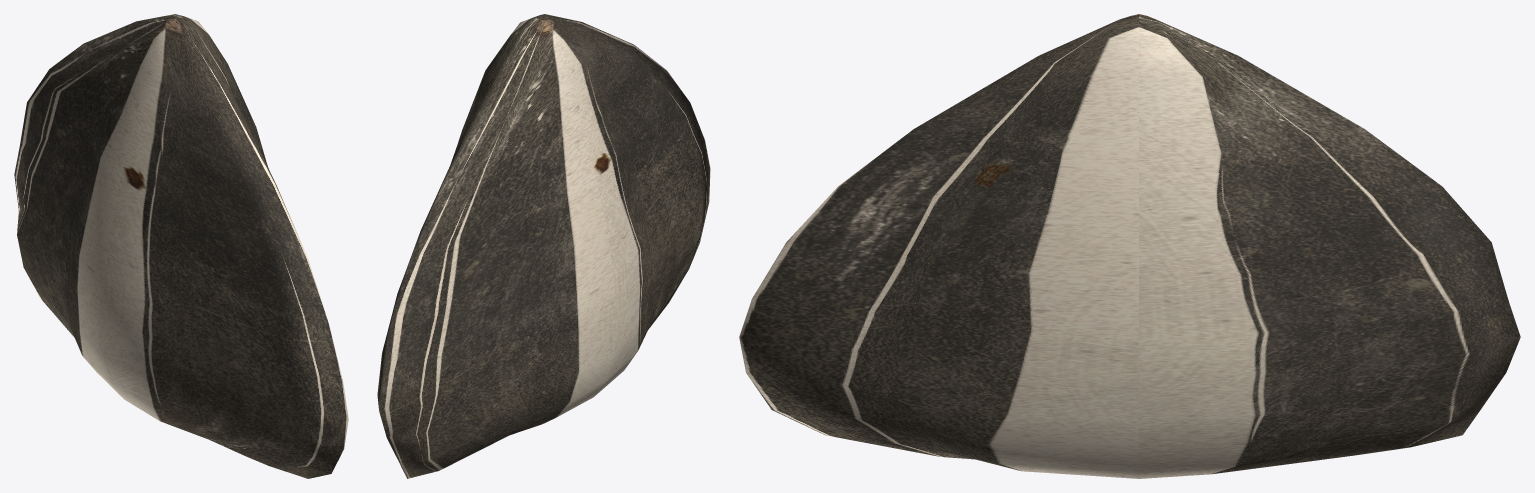
The model's file is sunflower_seed.glb.
The picture shows the model from 3 angles, left to right: view 1: azimuth 30°, elevation 25°; view 2: azimuth 150°, elevation 25°; view 3: azimuth 270°, elevation 25°; orthographic projection. The views are drawn at different scales.
Parts seen in each view (by area): view 1: Sunflower_Seed_model; view 2: Sunflower_Seed_model; view 3: Sunflower_Seed_model.
Part boxes in pixels (x1,y1,x2,y2): Sunflower_Seed_model: [14, 14, 348, 478]; Sunflower_Seed_model: [377, 14, 710, 478]; Sunflower_Seed_model: [739, 14, 1520, 478].
Bounding box in the file's own units: 0.1995 × 0.5082 × 0.7937.
1 material, 1 textured.
